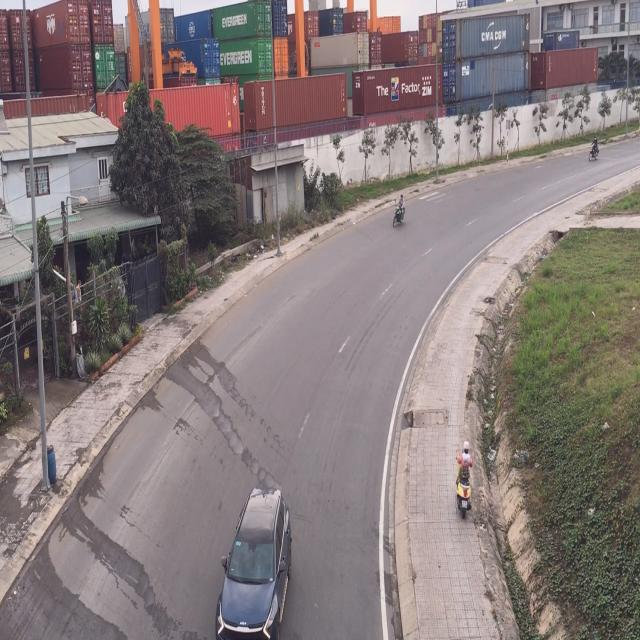car: (216, 487, 295, 640)
motorbike: (454, 440, 474, 515), (390, 194, 406, 229), (587, 136, 601, 162)
